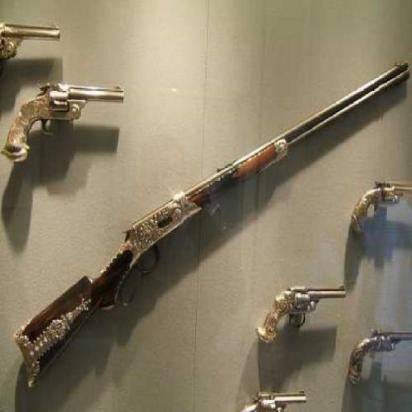Gun: (22, 53, 408, 371)
